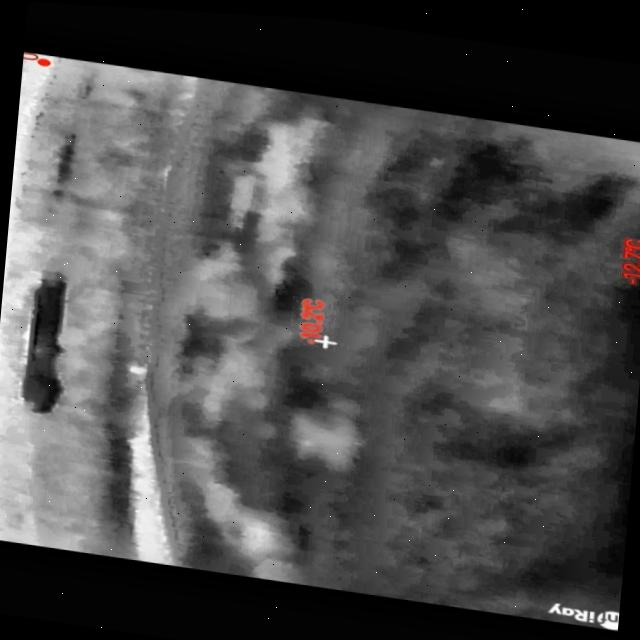drone: (299, 435, 314, 444)
